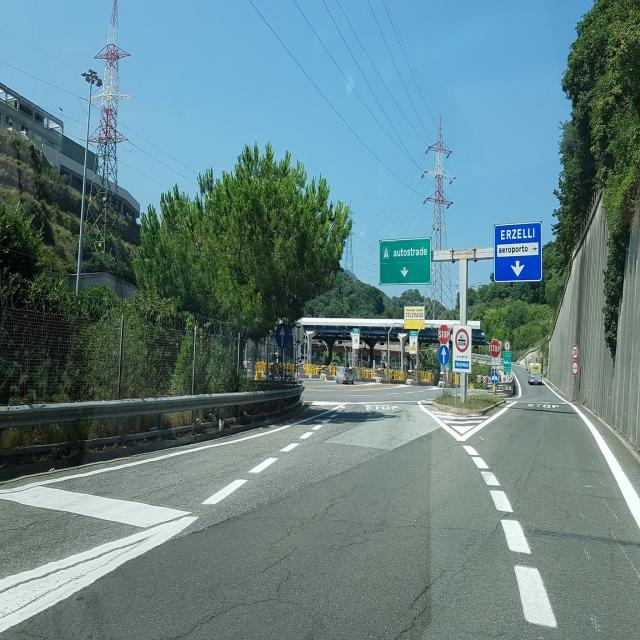car: (334, 365, 355, 384)
